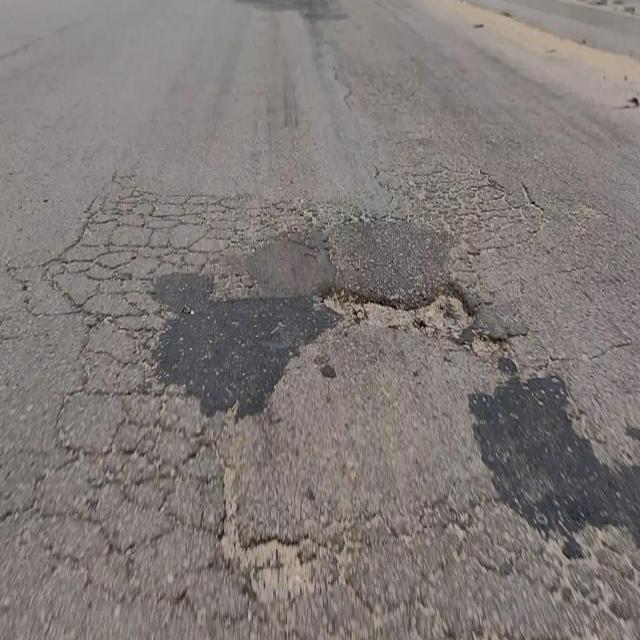Potholes: (314, 282, 483, 347)
